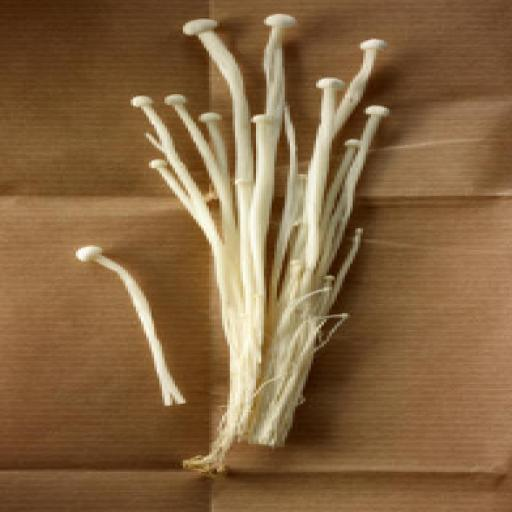Enoki Mushroom: (160, 0, 450, 476), (46, 204, 204, 417)
